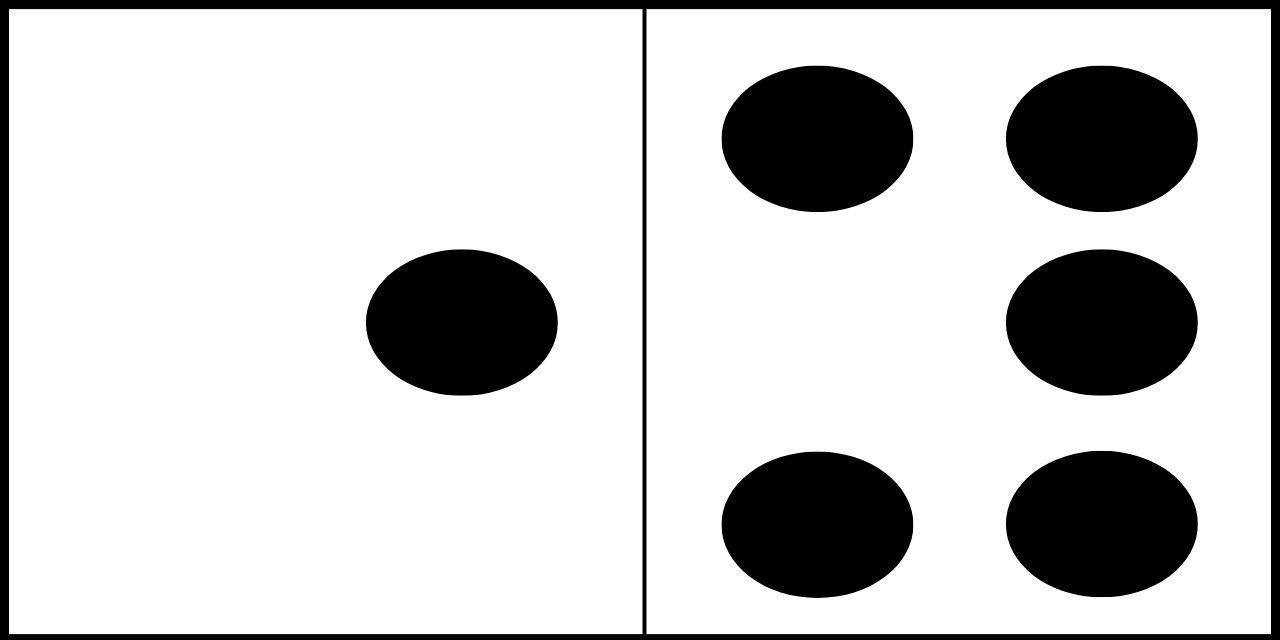dot_5: (81, 60, 558, 596)
two_cell_alphabet_ayaw: (719, 61, 1203, 598)
